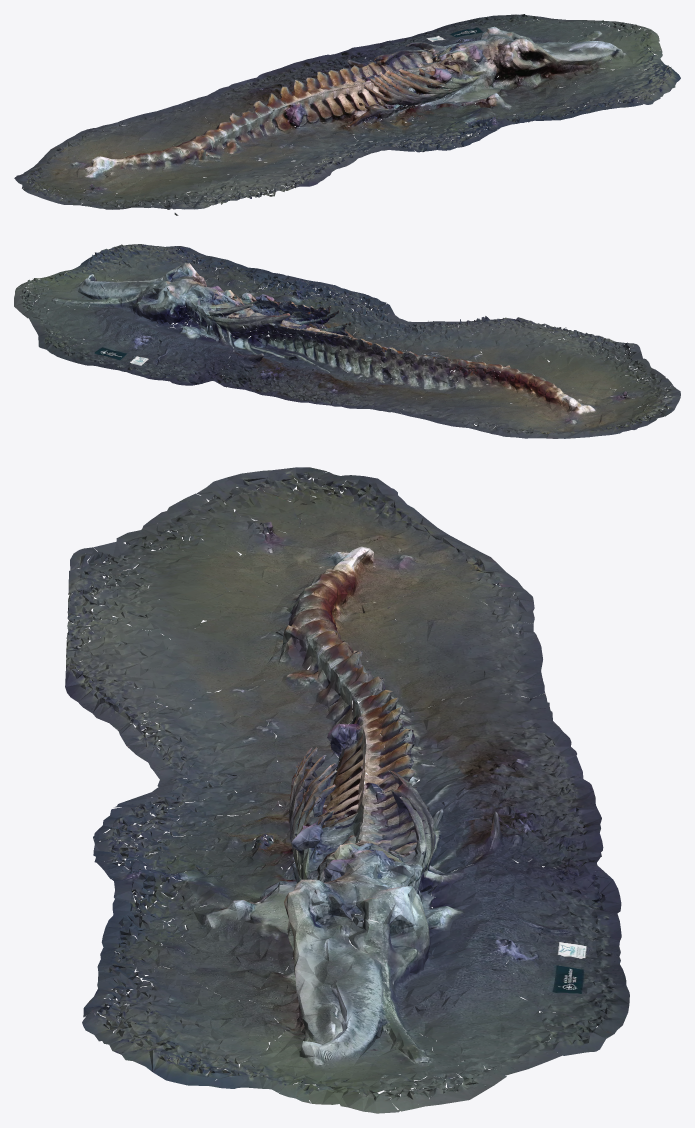
The model's file is whale-fall.glb.
The picture shows the model from 3 angles, top to bottom: view 1: azimuth 30°, elevation 25°; view 2: azimuth 150°, elevation 25°; view 3: azimuth 270°, elevation 25°; orthographic projection. The views are drawn at different scales.
Parts seen in each view (by area): view 1: Object_12, Object_2, Object_38, Object_25; view 2: Object_12, Object_25, Object_38, Object_2; view 3: Object_12, Object_25, Object_38, Object_2.
Part boxes in pixels (x1,y1,x2,y2): Object_12: (14,14,680,202); Object_2: (29,24,673,209); Object_38: (22,15,641,215); Object_25: (21,17,659,209); Object_12: (14,244,669,438); Object_25: (16,246,680,428); Object_38: (14,246,680,432); Object_2: (32,246,668,429); Object_12: (67,475,614,1111); Object_25: (67,471,603,1113); Object_38: (66,467,629,1106); Object_2: (65,477,533,1104).
Size of the model in its own units: 40.24 by 2.98 by 15.54.
Materials: 4 (4 with a texture image).
